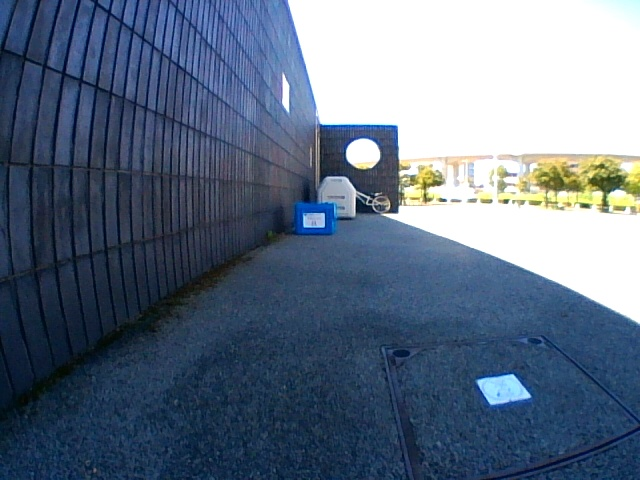blue_box: (296, 202, 335, 234)
tag: (304, 213, 324, 228)
